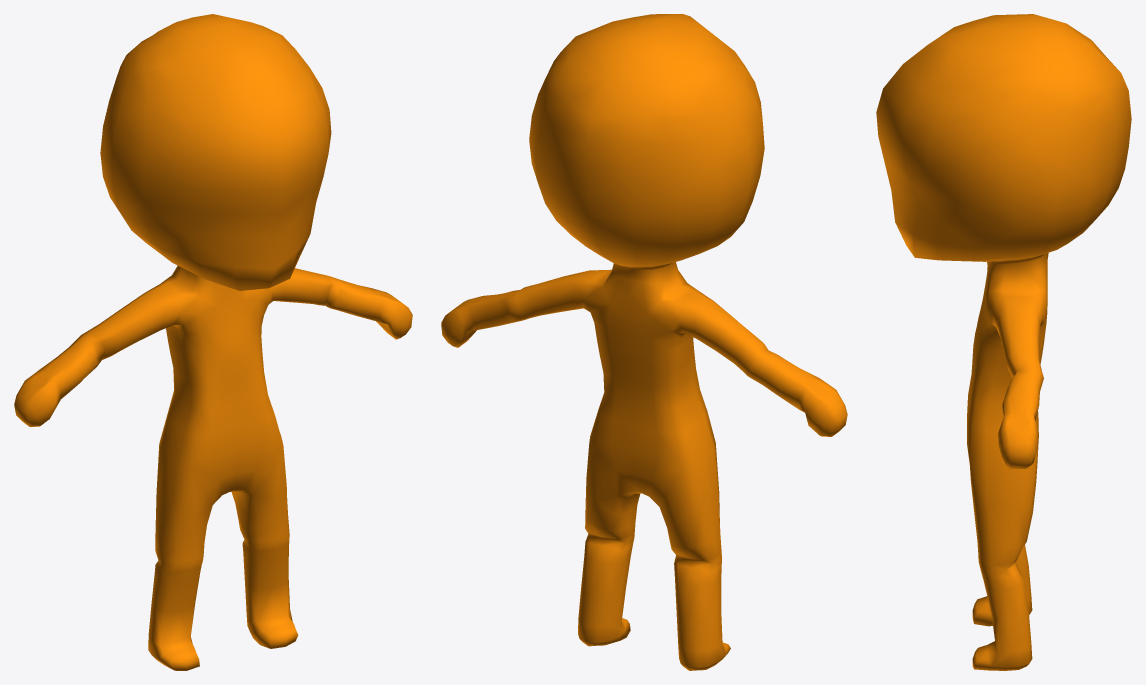
The model's file is ChibiBase.glb.
The picture shows the model from 3 angles, left to right: view 1: azimuth 30°, elevation 25°; view 2: azimuth 150°, elevation 25°; view 3: azimuth 270°, elevation 25°; orthographic projection.
Parts seen in each view (by area): view 1: Base; view 2: Base; view 3: Base.
Part boxes in pixels (left/top/right/bottom): Base: left=14, top=14, right=412, bottom=670; Base: left=441, top=14, right=847, bottom=670; Base: left=876, top=14, right=1131, bottom=670.
Bounding box in the file's own units: 4.05 × 6.08 × 2.28.
